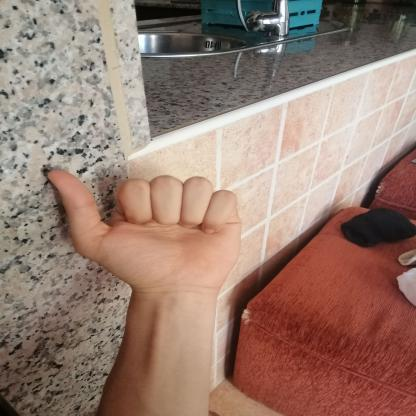DAD: (31, 155, 260, 304)
